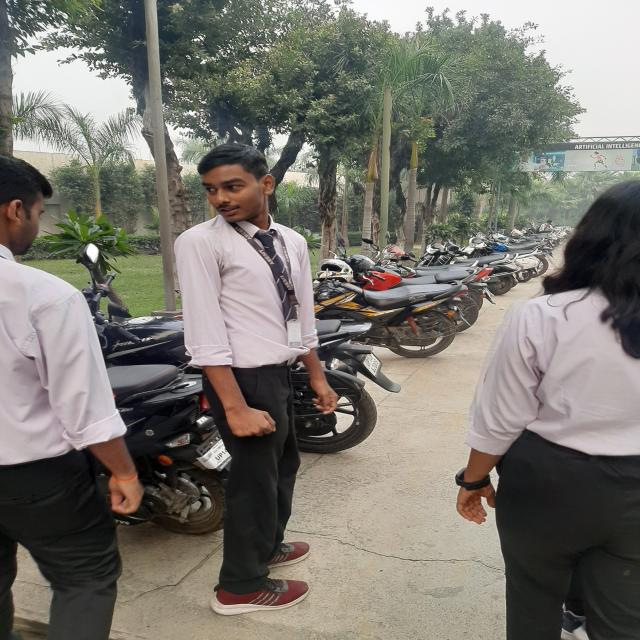unsafe: (165, 141, 347, 618)
